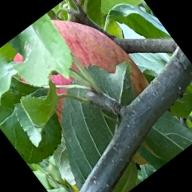Apples: (3, 0, 151, 145)
